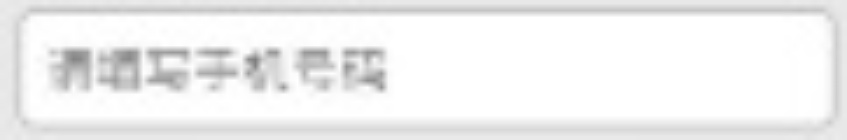EditText: (1, 1, 846, 139)
